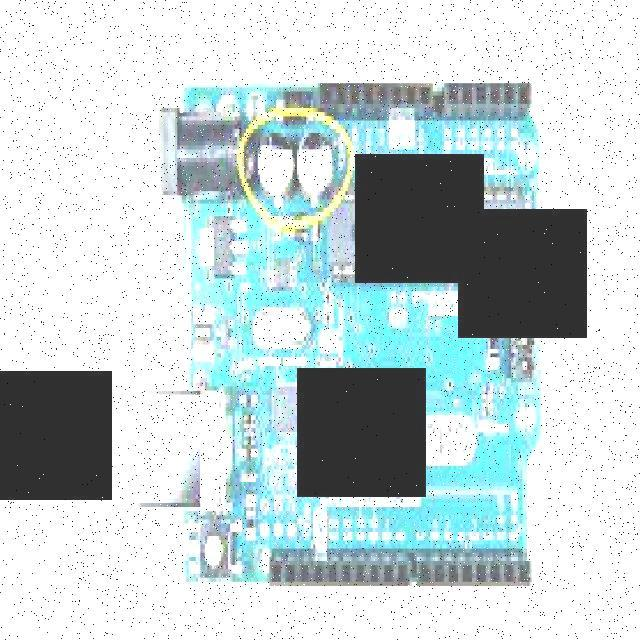arduino: (175, 83, 551, 589)
